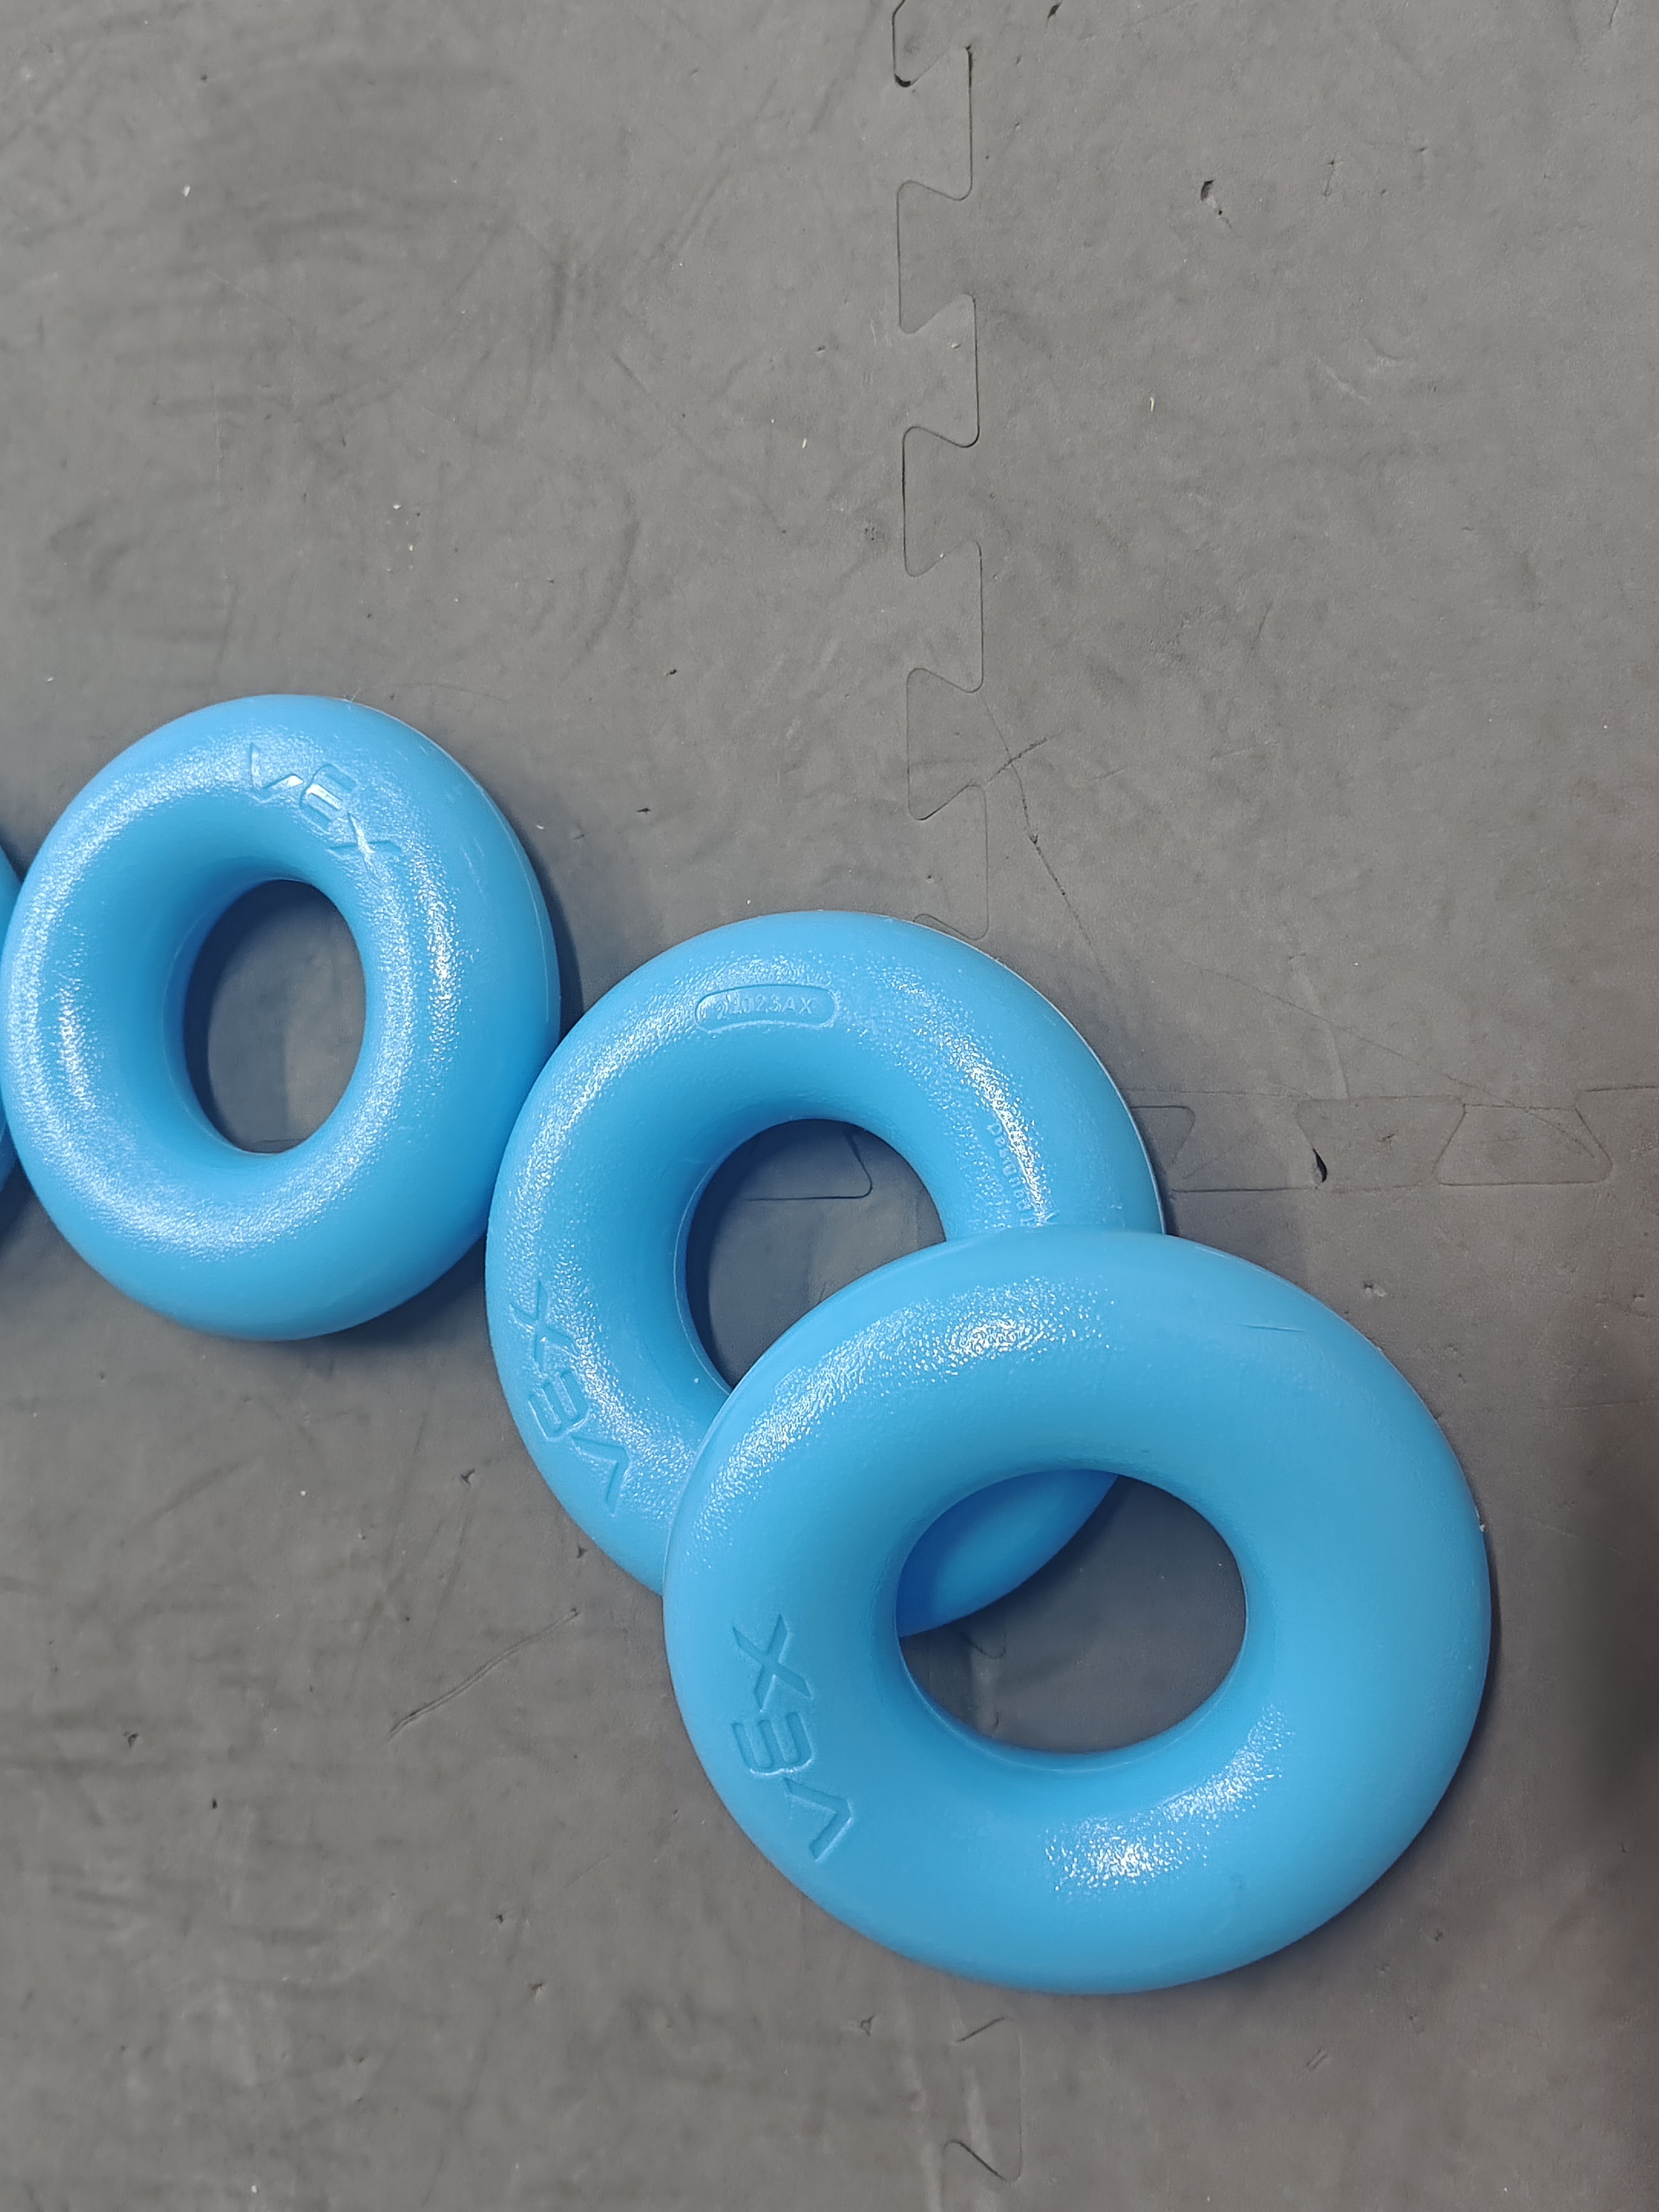blue: (671, 1231, 1493, 1998), (495, 831, 1169, 1639), (12, 705, 575, 1318)
